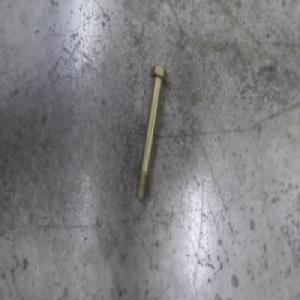Bolt: (135, 63, 168, 202)
